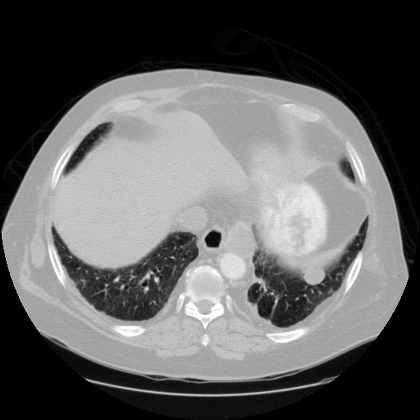nodule: (305, 266, 323, 284)
